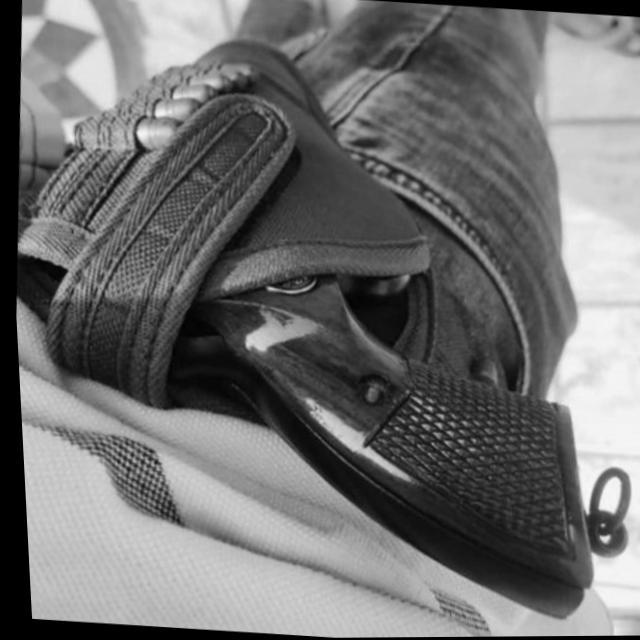weapon: (1, 12, 640, 634)
